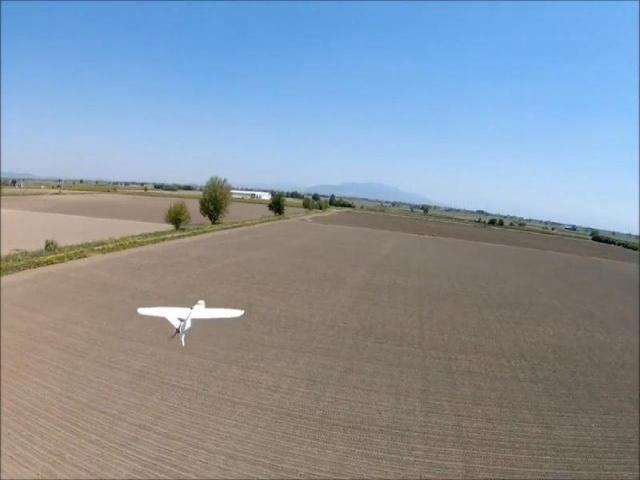hedef: (134, 290, 248, 346)
